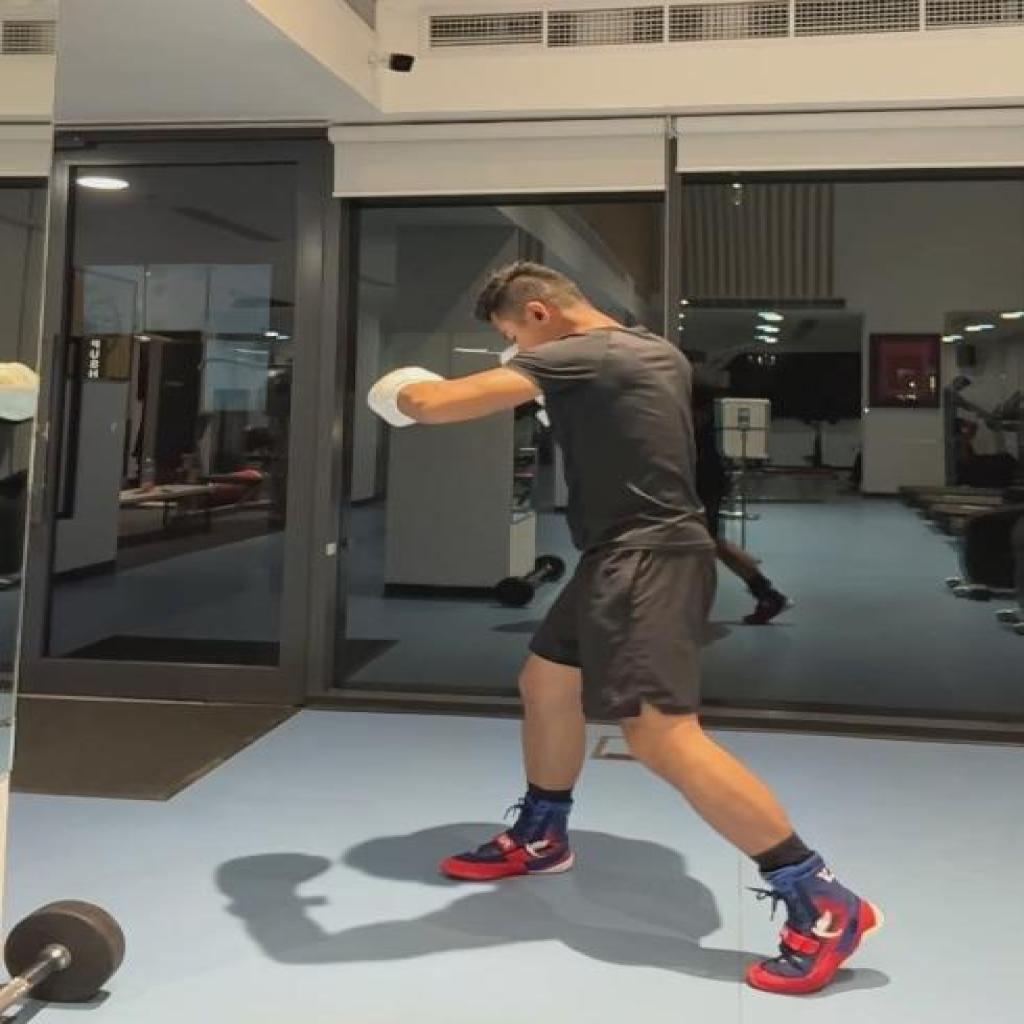hook: (364, 256, 886, 1002)
